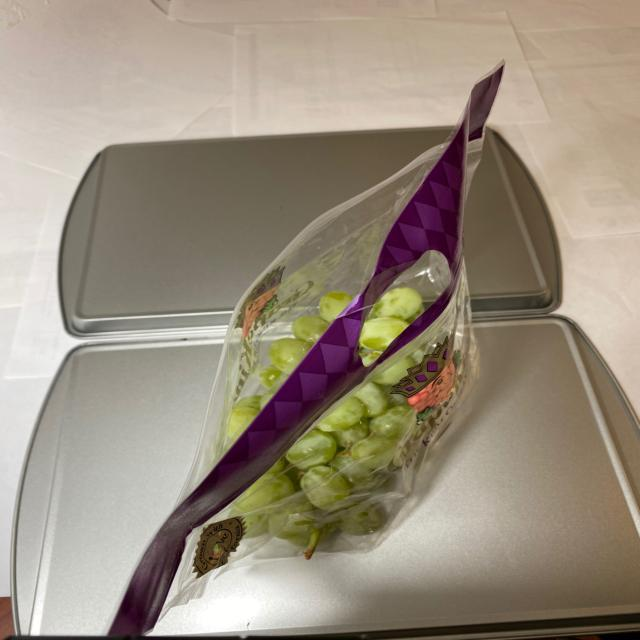grapes: (218, 264, 441, 552)
